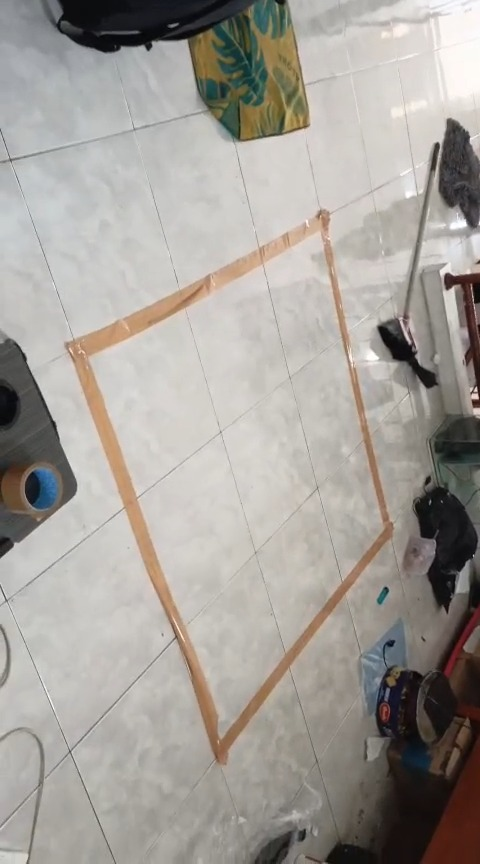floor marking: (67, 210, 392, 760)
